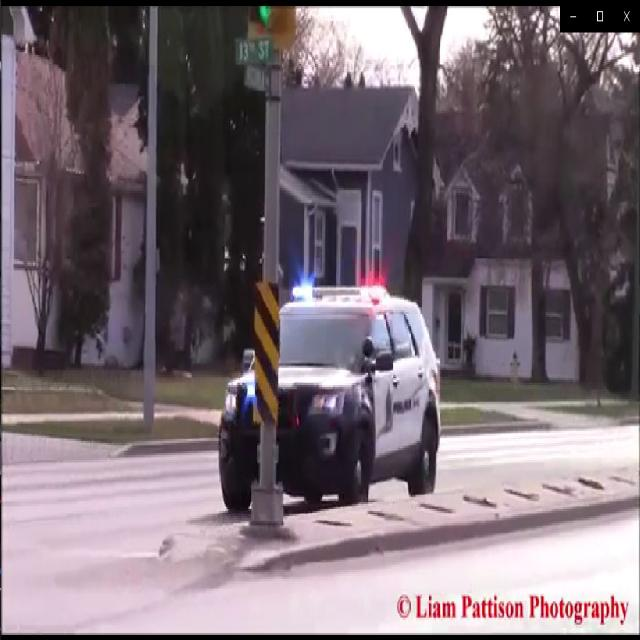emergency: (212, 274, 441, 517)
